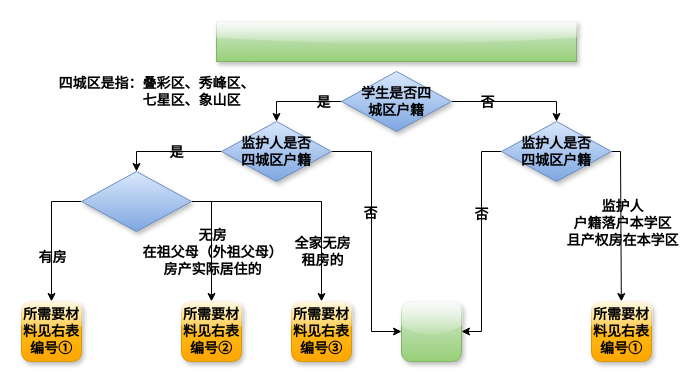
Some shapes in this 696 by 386 pixel diagram are drawn without their labels. The shapes that lost their labels are listed below. From the top down, each one's centre as x and y in pixels, then its label:
At point 397,42: "桂林市桂岭小学2021年新生入学材料 根据实际情况，按以下逻辑判断所需提交的材料类型".
At point 137,202: "监护人是否有产权房".
At point 432,332: "所需要材料见右表编号④".
